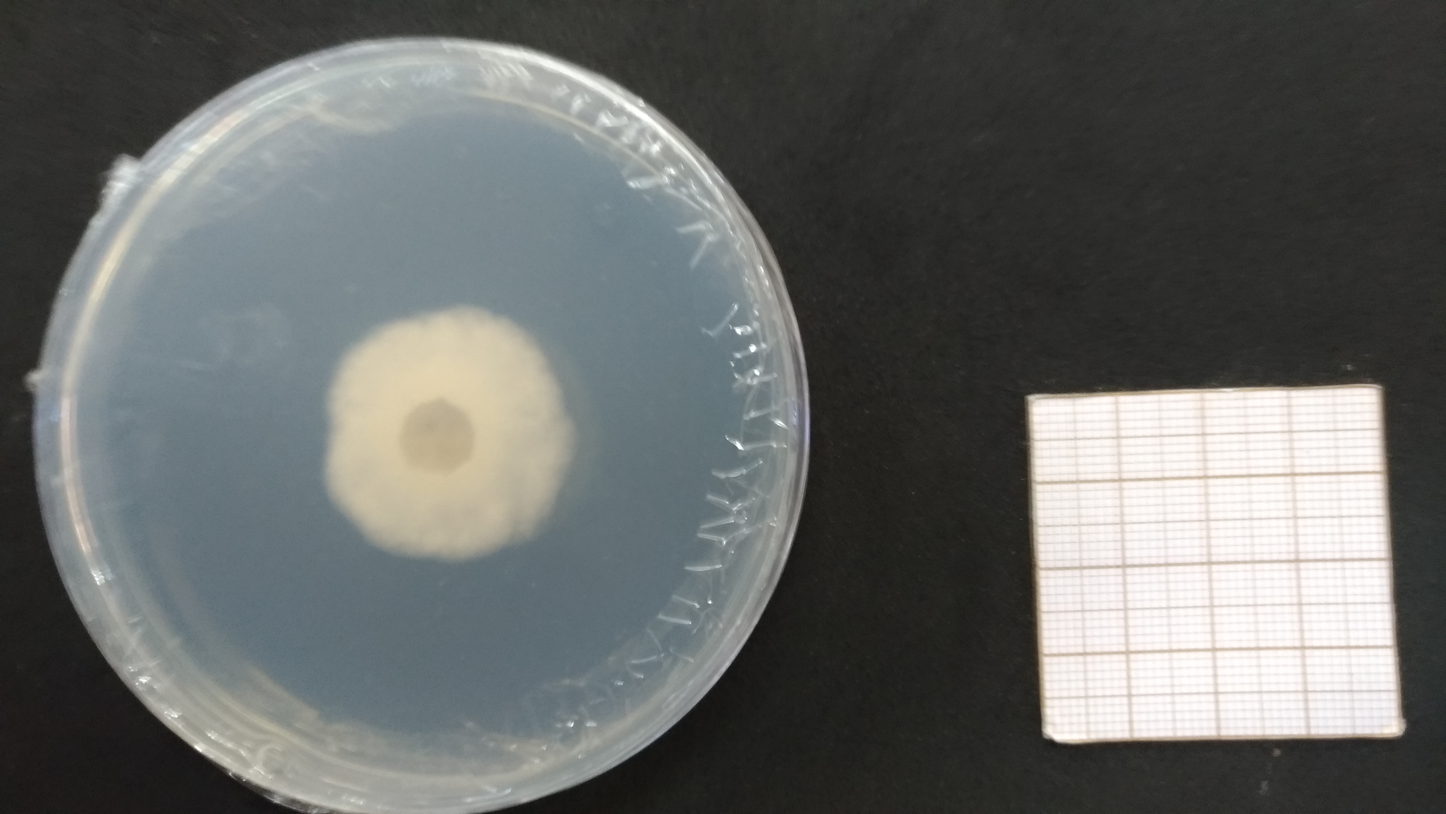escala: (1023, 388, 1398, 737)
fungo: (326, 305, 578, 561)
